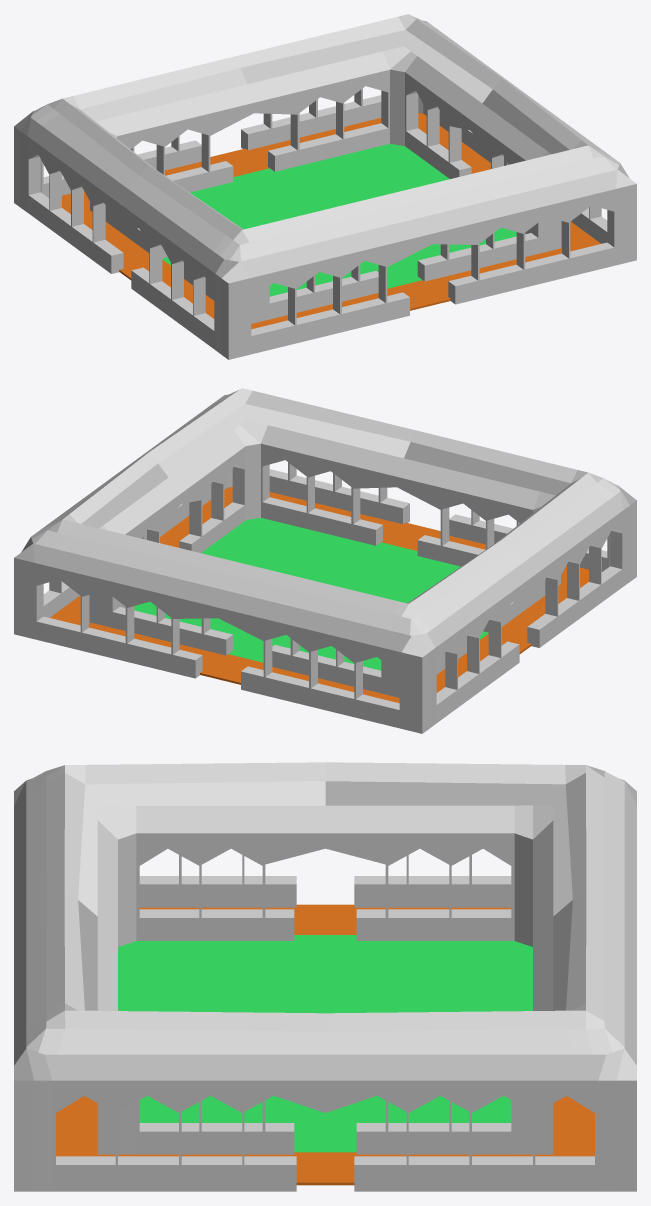
File: courtyard.fbx
3 renders of one model, top to bottom at view 1: azimuth 30°, elevation 25°; view 2: azimuth 150°, elevation 25°; view 3: azimuth 270°, elevation 25°, orthographic. The views are drawn at different scales.
Visible parts, largest first — view 1: Cube; view 2: Cube; view 3: Cube.
Boxes of the visible parts, x1,y1,x2,y2 form: Cube: (14,14,636,359); Cube: (14,388,636,733); Cube: (14,762,636,1191).
Size of the model in its own units: 4386 by 1125 by 3991.
